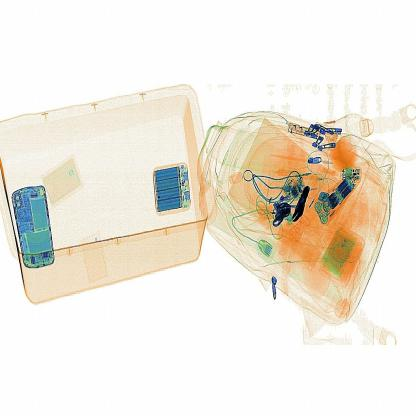knife: (290, 172, 310, 228)
